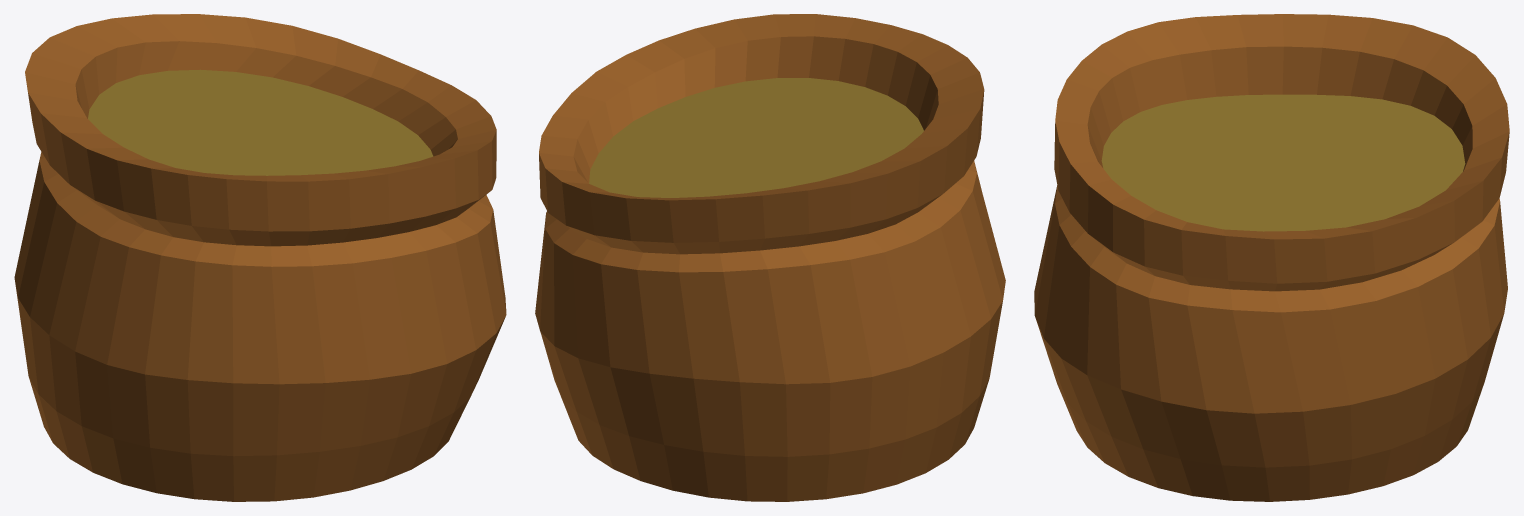
File: SandSack.fbx
3 views of the same model, side by side, from view 1: azimuth 30°, elevation 25°; view 2: azimuth 150°, elevation 25°; view 3: azimuth 270°, elevation 25° (orthographic). The views are drawn at different scales.
Parts seen in each view (by area): view 1: Cylinder; view 2: Cylinder; view 3: Cylinder.
Boxes of the visible parts, x1=… form: Cylinder: x1=14, y1=14, x2=506, y2=501; Cylinder: x1=535, y1=14, x2=1005, y2=501; Cylinder: x1=1034, y1=14, x2=1509, y2=501.
Size of the model in its own units: 77.71 by 59.37 by 79.41.
